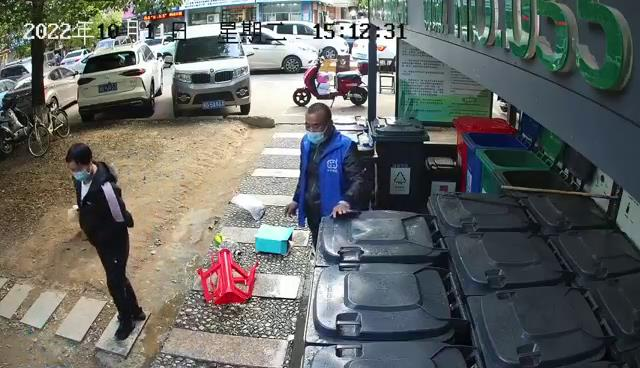person: (65, 142, 147, 343)
suliaozhipin: (195, 248, 260, 308), (229, 192, 266, 221)
worker: (284, 102, 366, 252)
zhizhipin: (254, 222, 295, 255)
